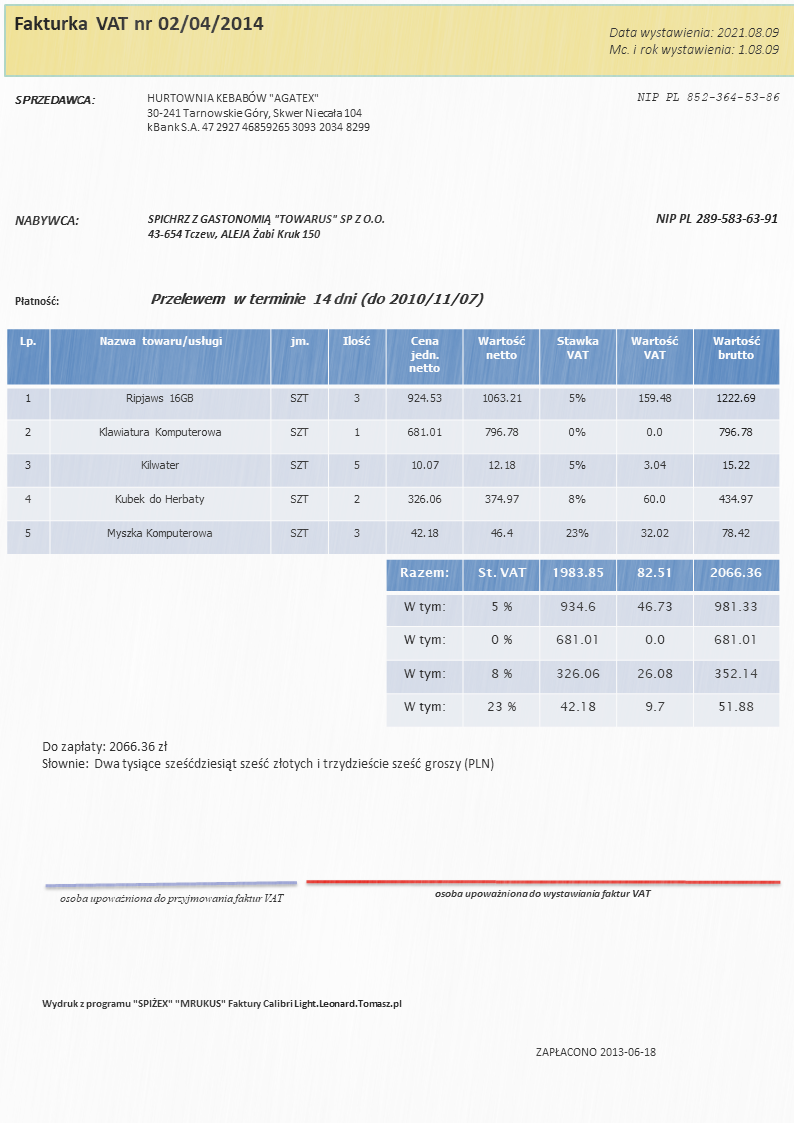Table: (5, 327, 780, 555), (385, 557, 780, 728)
TextBox: (39, 738, 495, 774), (144, 90, 372, 133), (145, 210, 386, 241), (147, 290, 486, 310), (607, 24, 783, 58), (12, 13, 266, 35), (40, 996, 405, 1011), (434, 886, 652, 902), (57, 891, 286, 906), (633, 88, 782, 105), (654, 211, 781, 226), (533, 1044, 660, 1058), (13, 91, 96, 106), (11, 211, 82, 228), (11, 293, 61, 307)
